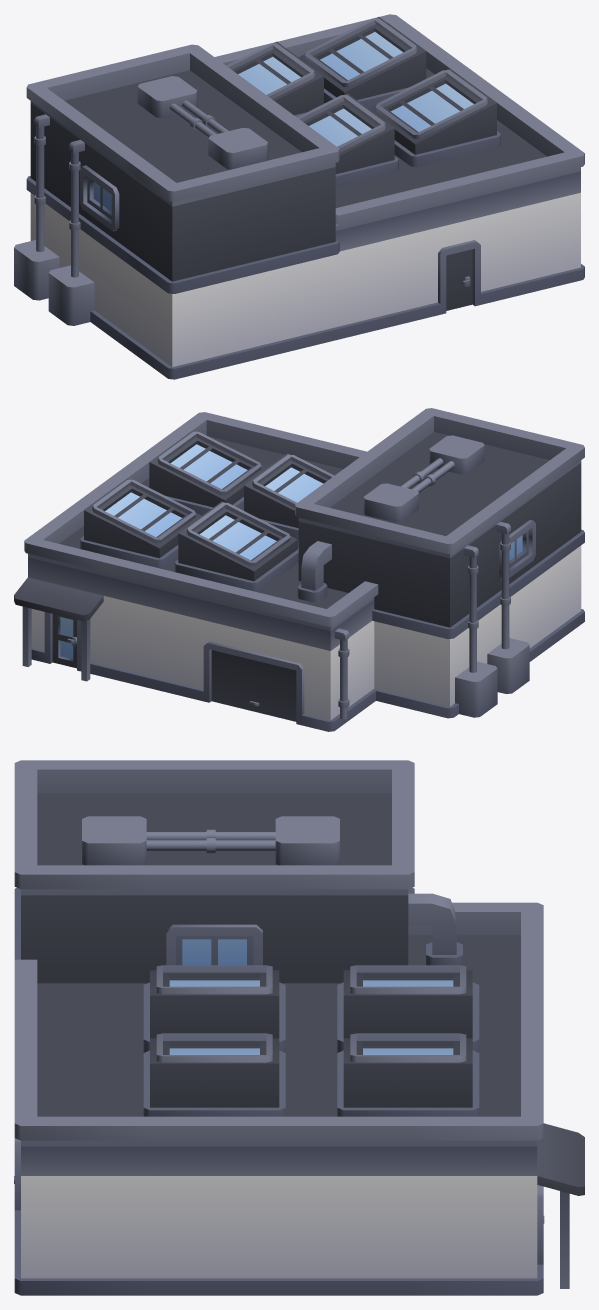
Rendered from building-q.fbx.
3 renders of one model, top to bottom at view 1: azimuth 30°, elevation 25°; view 2: azimuth 150°, elevation 25°; view 3: azimuth 270°, elevation 25°, orthographic. The views are drawn at different scales.
Visible parts, largest first — view 1: building-q; view 2: building-q; view 3: building-q.
Boxes of the visible parts, x1,y1,x2,y2 form: building-q: (14,14,584,379); building-q: (14,408,584,731); building-q: (14,760,584,1295).
Bounding box in the file's own units: 214 × 88 × 177.
Materials: 1 (1 with a texture image).
